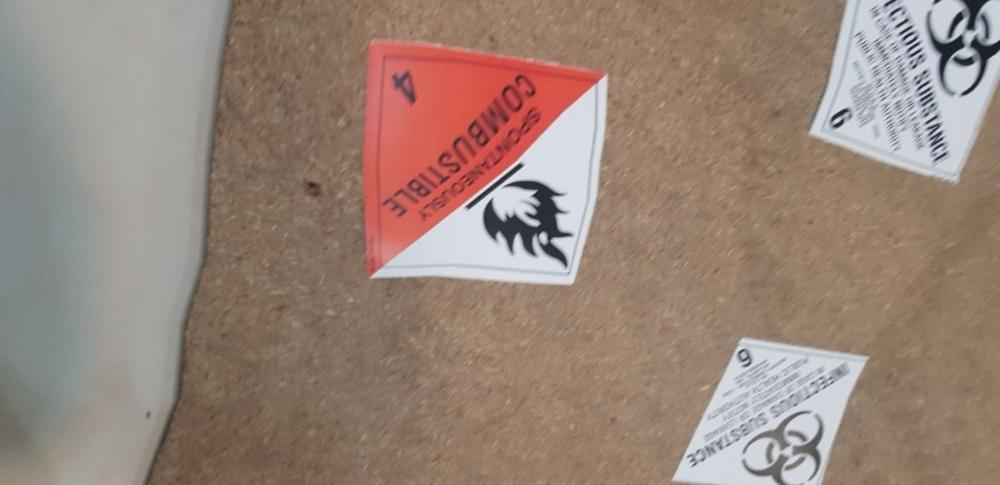infectious-substance: (1, 1, 796, 184), (665, 332, 887, 484)
spontaneously-combustible: (355, 33, 611, 299)
